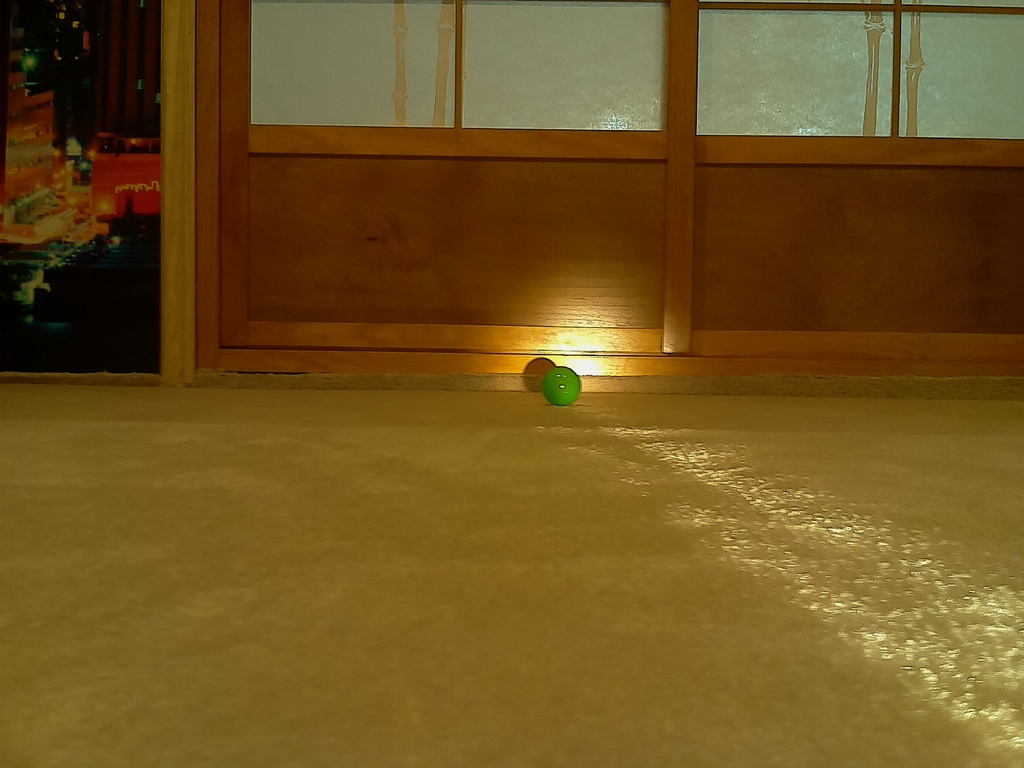ball: (545, 367, 581, 405)
